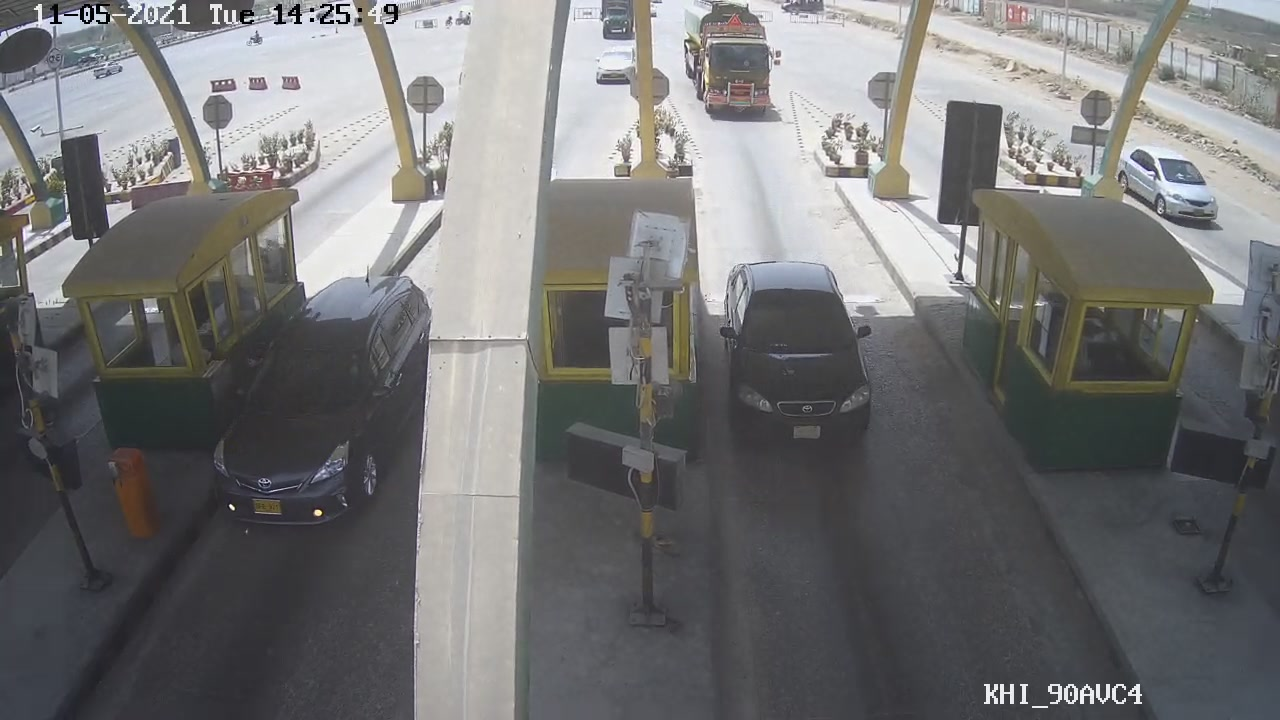F1: (719, 257, 878, 456)
